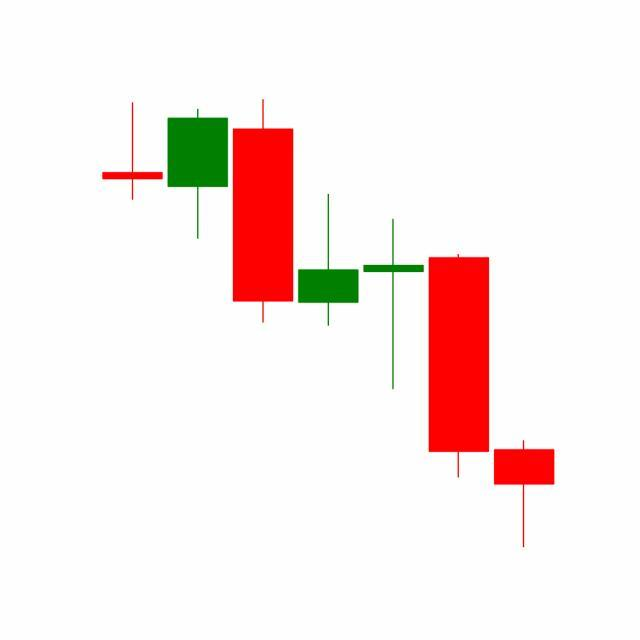Three Outside Up-Down: (360, 215, 556, 549)
